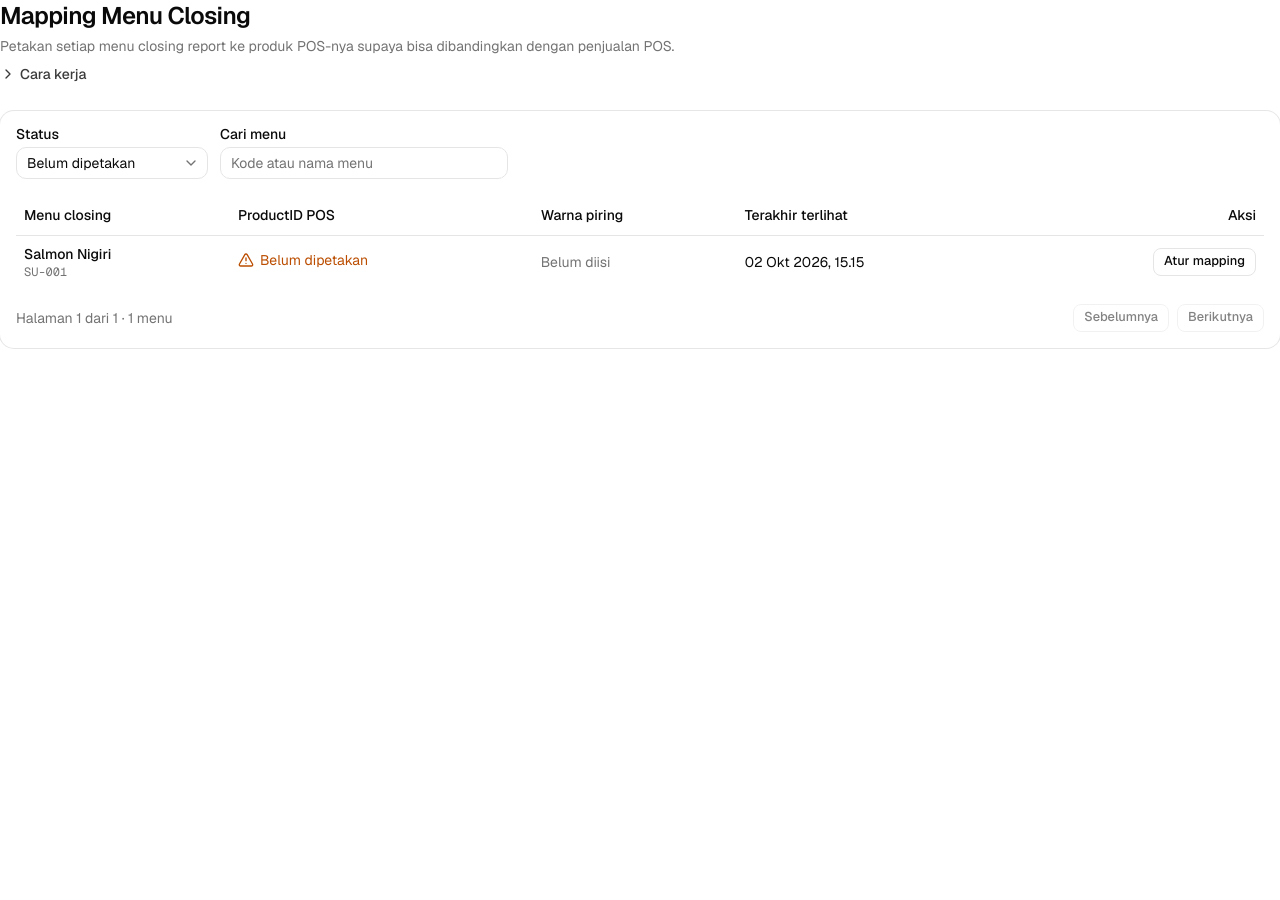
Scenario: ClosingMenusView — tidak ada di POS › menu tanpa mapping langsung ditandai
The width and height of the screenshot is (1280, 900).
Expected: the heading "Cara kerja" is shown, [0,64,86,84]
Click the dropdown named "status" at (112, 163), box [16,147,208,179]
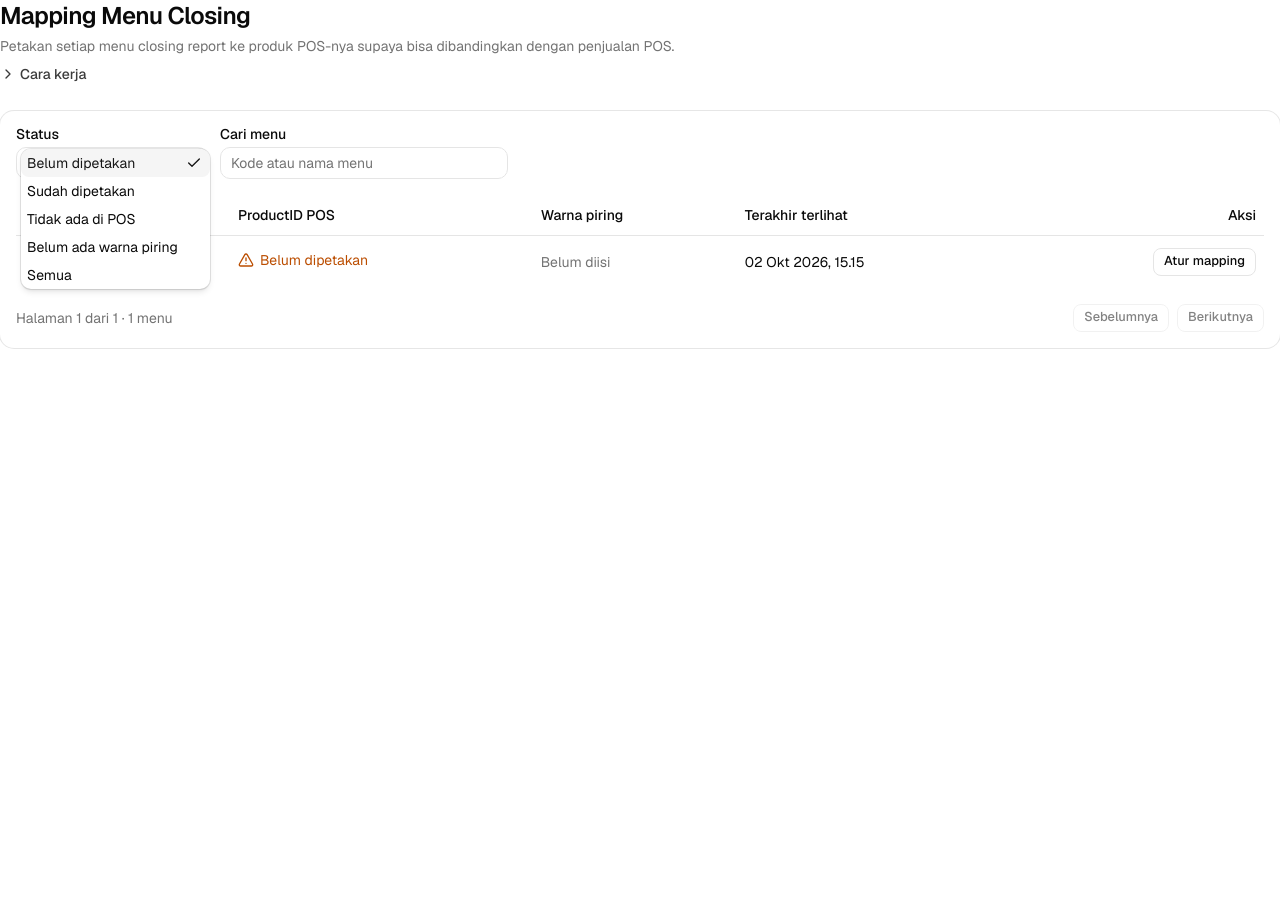
Click the option "Semua" at (49, 275), box [27,266,72,284]
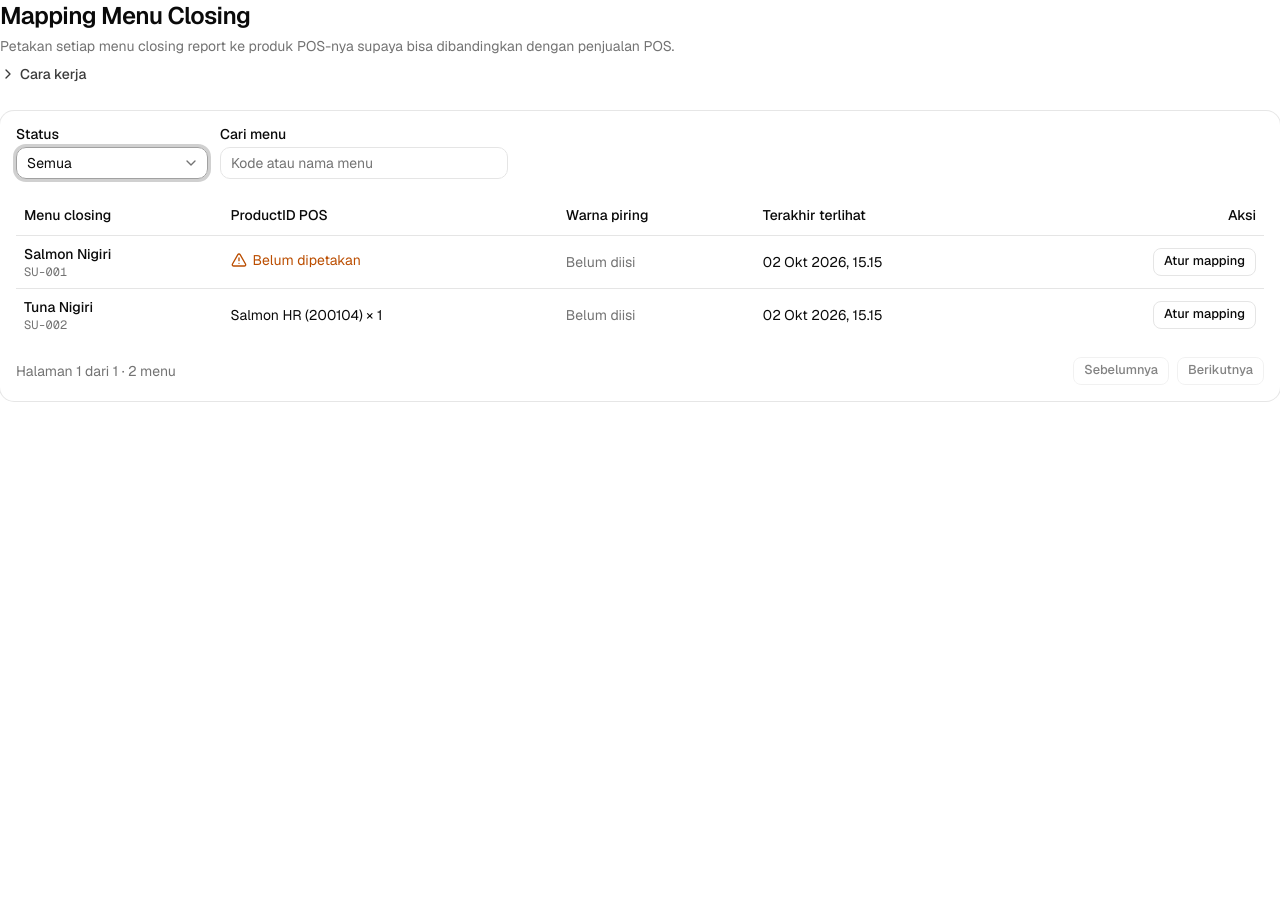
Click the button "Atur mapping" in the row of "Salmon Nigiri" at (1204, 262), box [1153,248,1256,276]
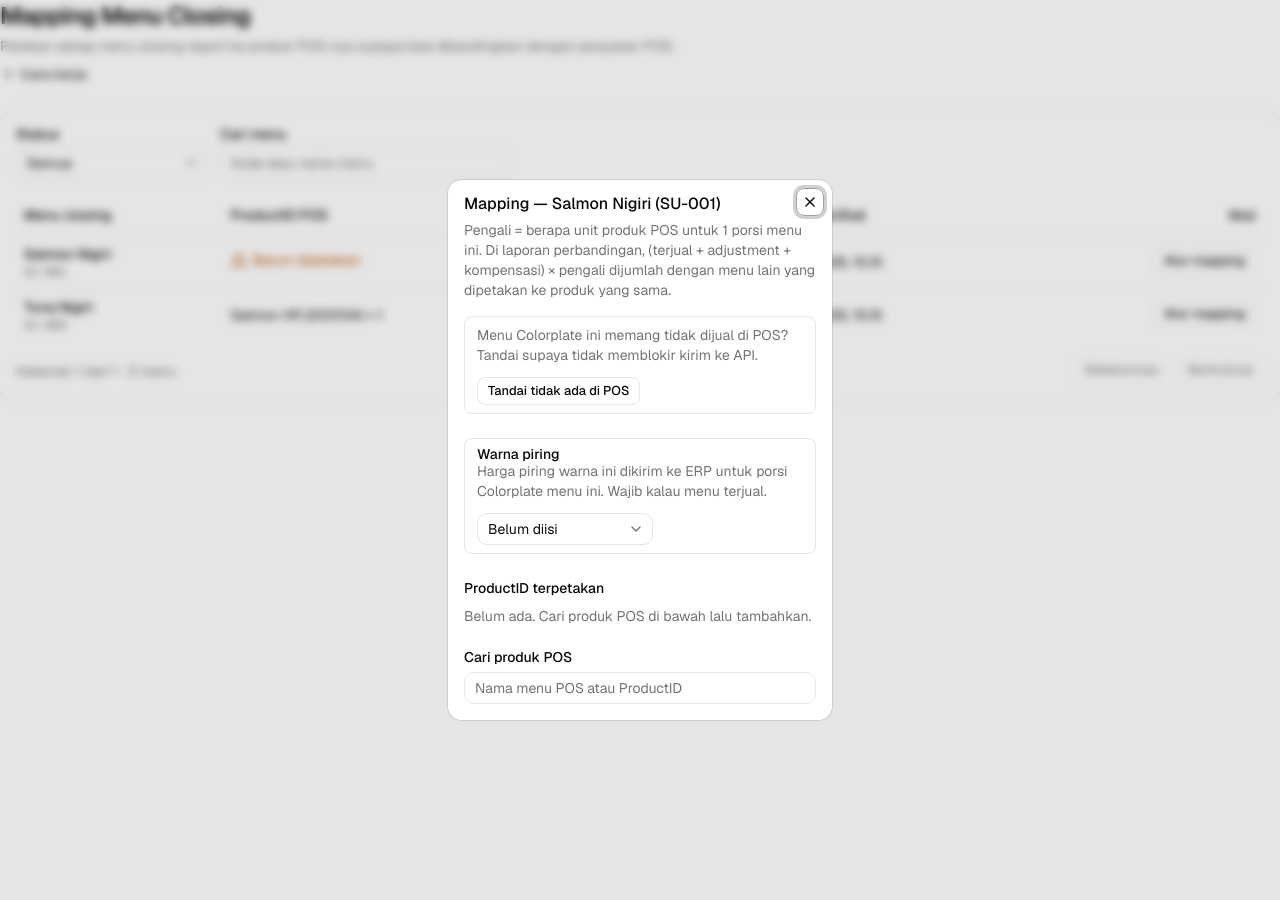
Click the button "Tandai tidak ada di POS" at (559, 391), box [477,377,640,405]
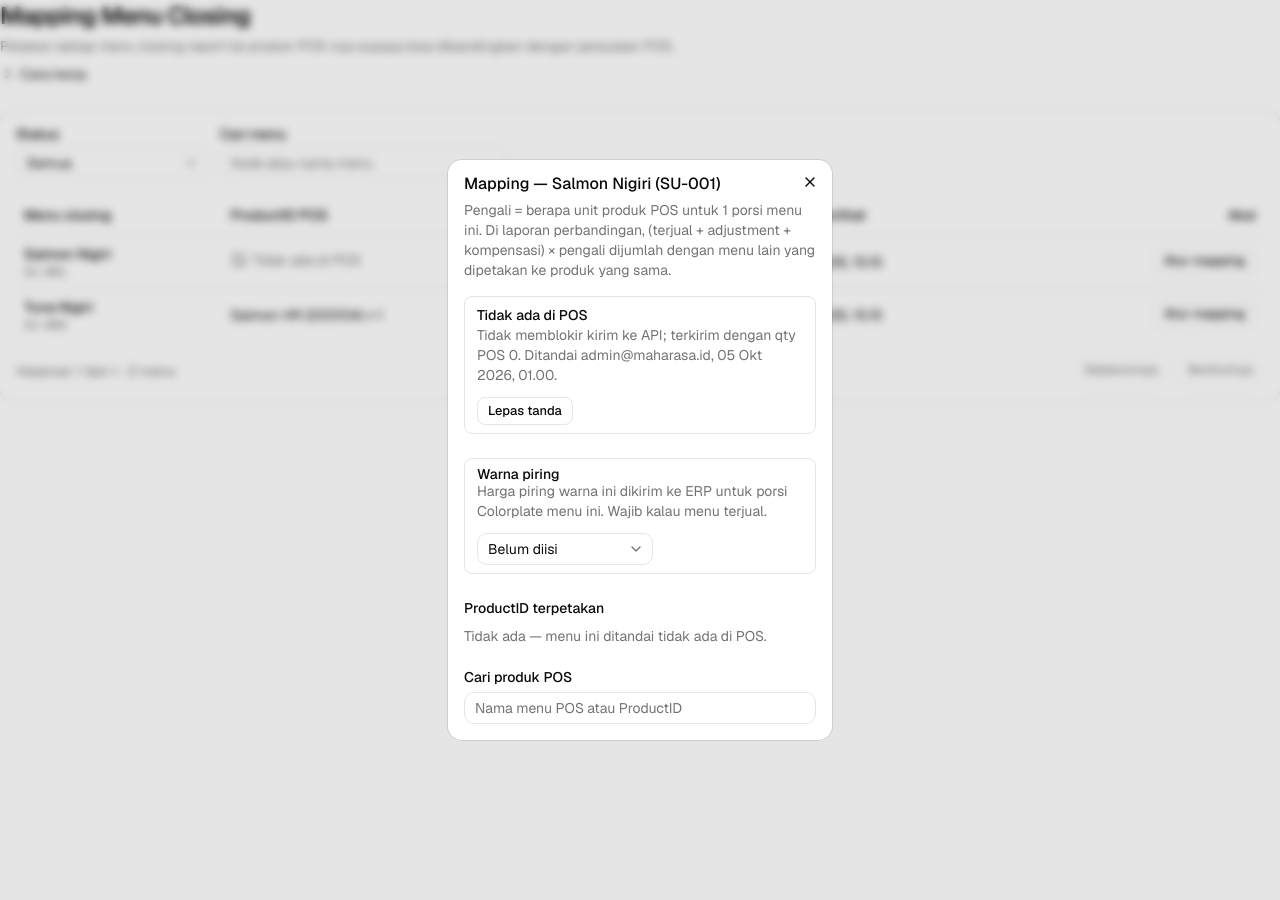
Expected: the text "admin@maharasa.id" is shown, [521,346,711,364]
Expected: the button "Lepas tanda" is shown, [477,397,573,425]
